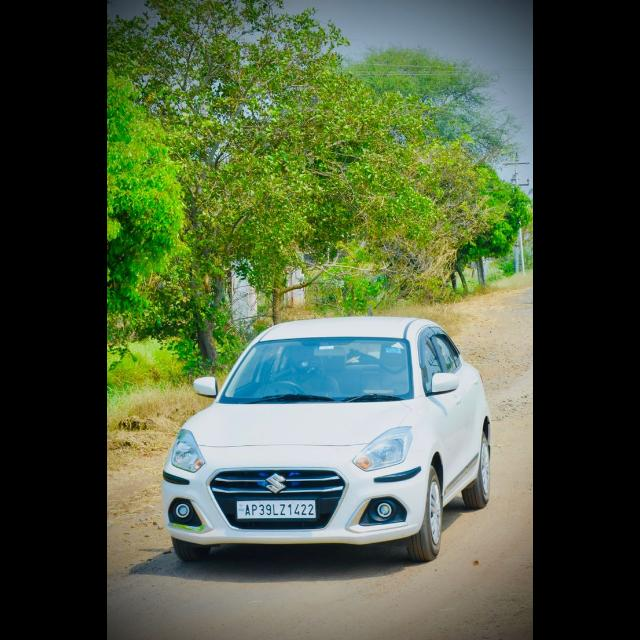number-plate: (238, 500, 316, 518)
vehicles: (161, 319, 487, 569)
